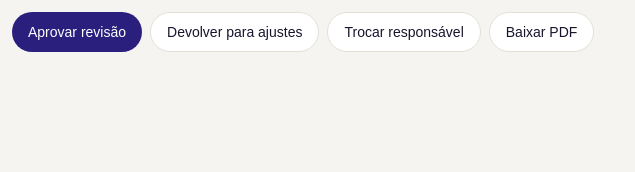
Test: AcoesVersao › Spinner_so_no_botao_da_acao_em_voo
Click the button "Aprovar revisão" at (77, 32), box x1=12 y1=12 x2=142 y2=52
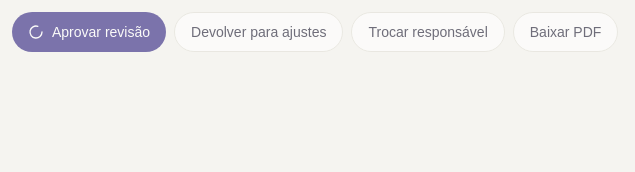
Check: the button "Devolver para ajustes" is disabled, box x1=174 y1=12 x2=343 y2=52
